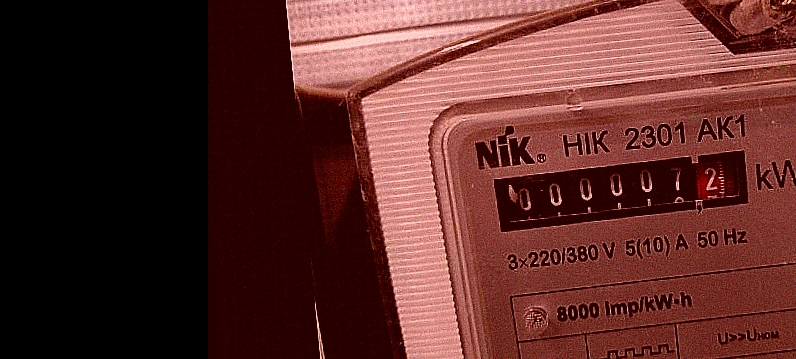0: (576, 174, 597, 202), (547, 179, 566, 208), (516, 184, 535, 212), (638, 165, 656, 194), (608, 169, 625, 197)
2: (703, 163, 721, 193)
7: (668, 163, 686, 194)
screen: (485, 140, 764, 238)
